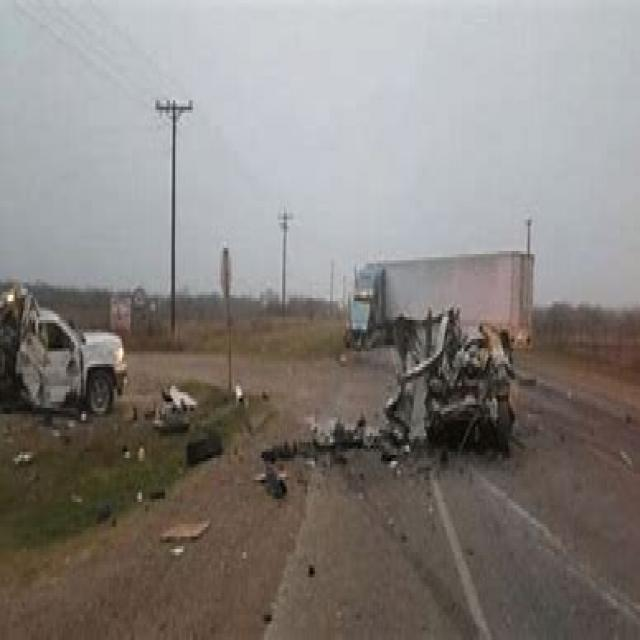Accident: (212, 170, 575, 474)
